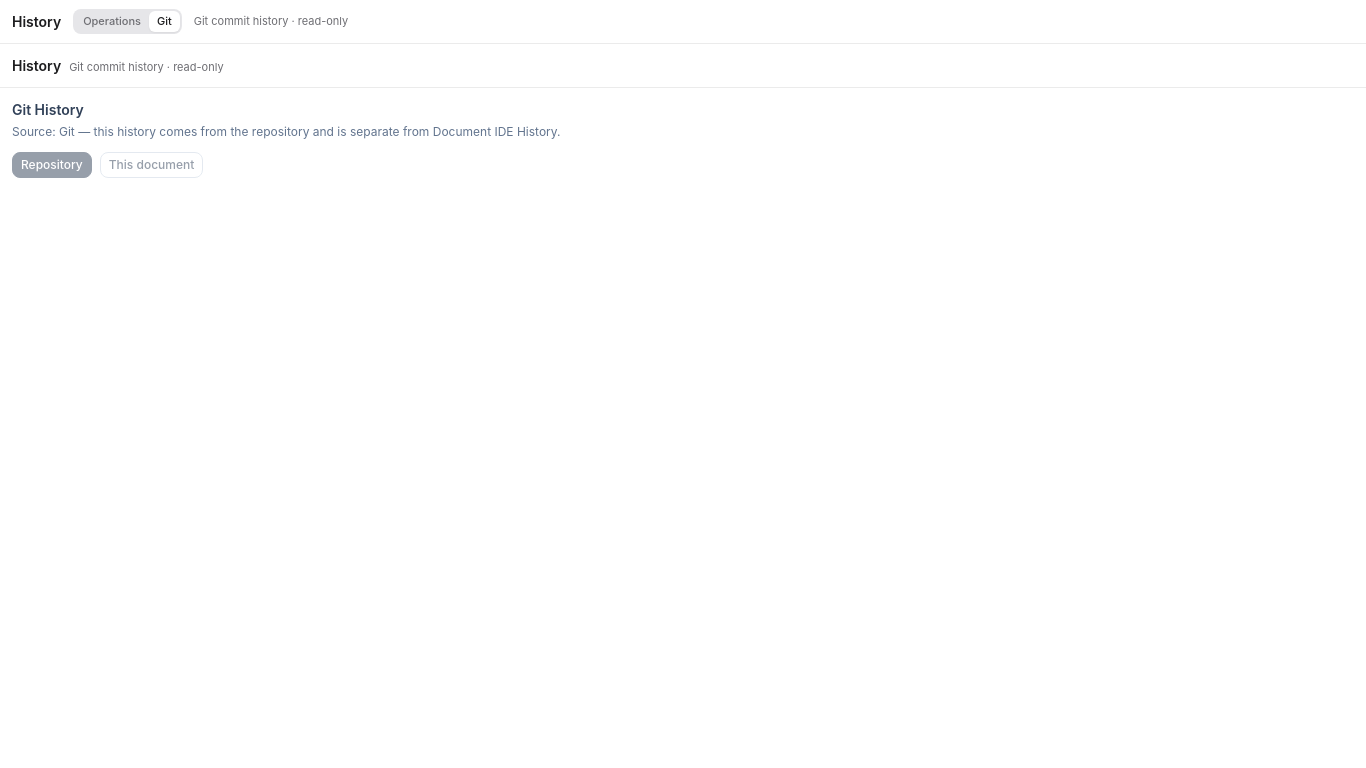
Test: HistoryScreen — HIST-04 real operation listing › undo from a listed operation completes without a conflict when nothing changed
Click the radio button labelled "Operations" at [112, 22], box [75,11,149,32]
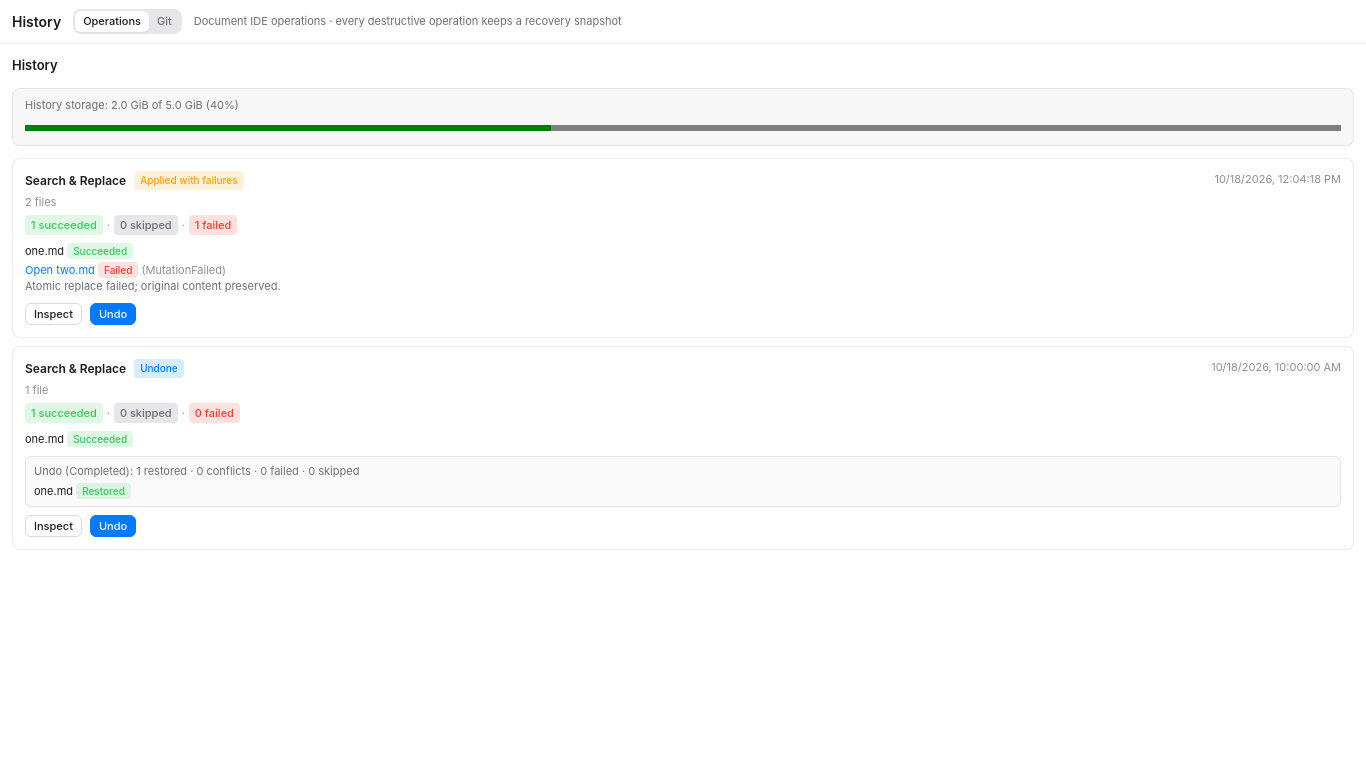
Click the button "Undo" below "Undone" at [113, 526], box [90,514,136,537]
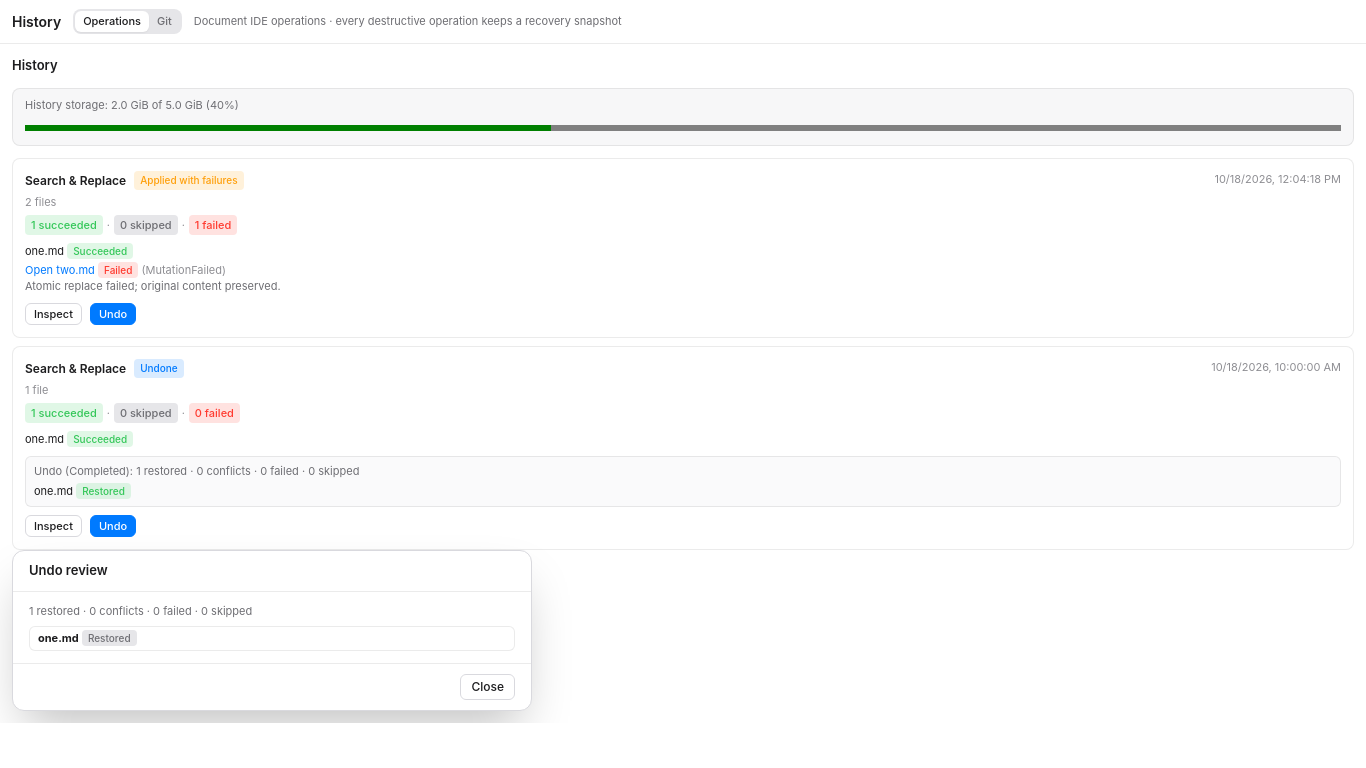
Result: the text with test id "undo-summary" shows "1 restored" at [29,604,252,618]
Result: the text "Restored" below "Undo review" is shown at [88,632,131,644]
